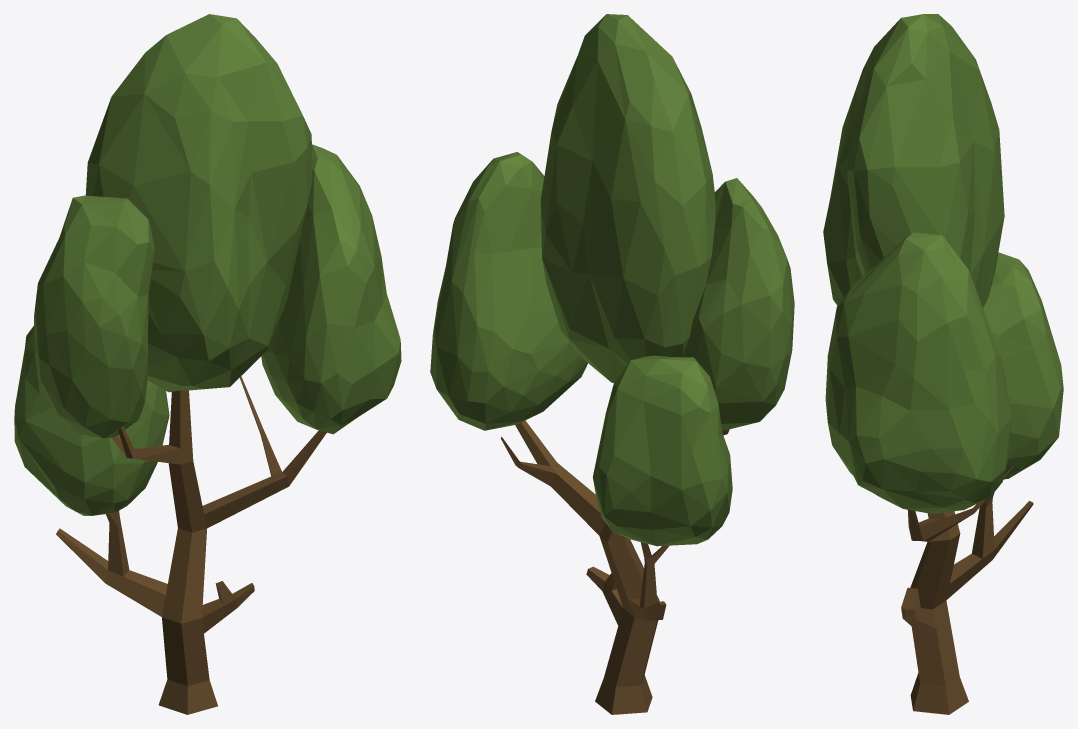
The model's file is Tree_01.glb.
3 renders of one model, left to right at view 1: azimuth 30°, elevation 25°; view 2: azimuth 150°, elevation 25°; view 3: azimuth 270°, elevation 25°, orthographic. The views are drawn at different scales.
Parts seen in each view (by area): view 1: Tree_01_LOD0; view 2: Tree_01_LOD0; view 3: Tree_01_LOD0.
Part boxes in pixels (x1=…): Tree_01_LOD0: x1=14, y1=14, x2=401, y2=714; Tree_01_LOD0: x1=430, y1=14, x2=794, y2=714; Tree_01_LOD0: x1=823, y1=14, x2=1063, y2=714.
Size of what is drawn, in the model's own units: 3.91 by 7.55 by 2.37.
1 material, 1 textured.
